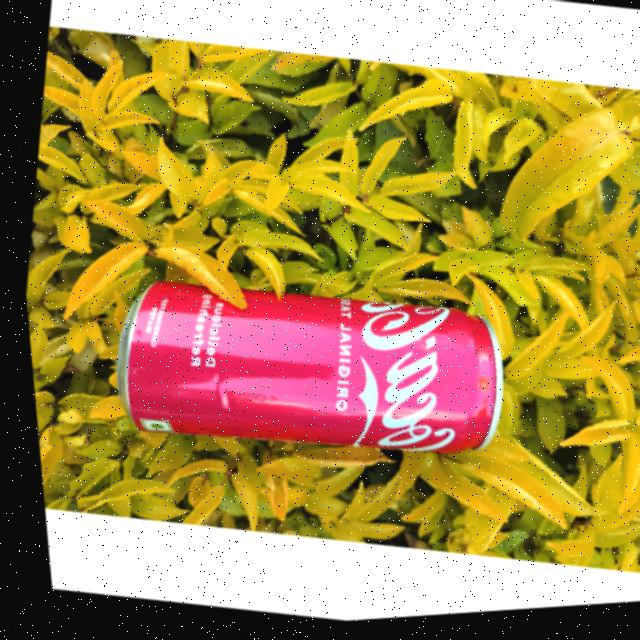Coca Cola: (82, 237, 522, 507)
